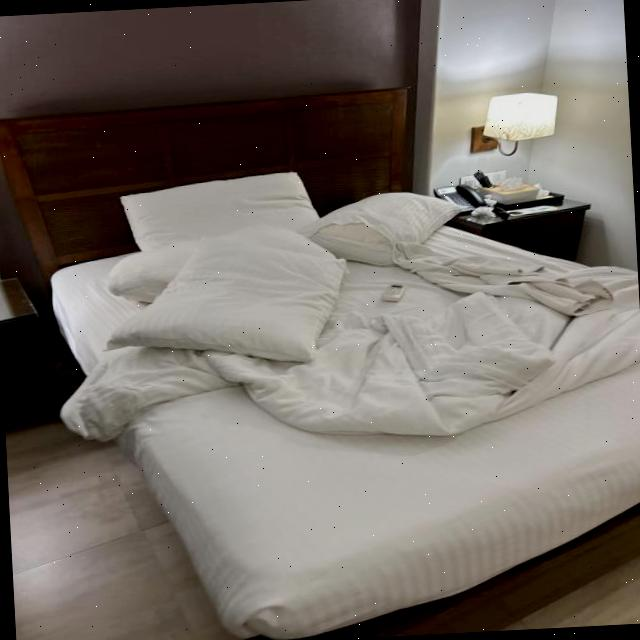Disorganized_pillow: (99, 167, 476, 361)
lamp: (462, 92, 566, 164)
mess: (462, 186, 528, 225)
messy_bed: (0, 87, 640, 590)
messy_table: (421, 166, 590, 231)
